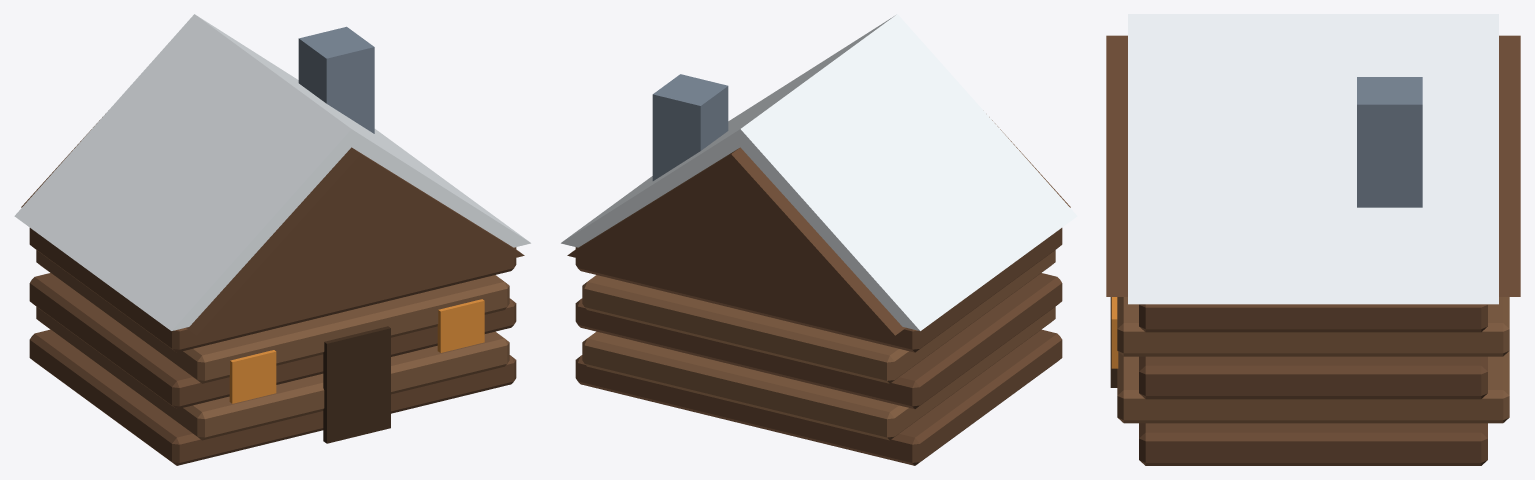
The model's file is env_r2_log_cabin.glb.
The picture shows the model from 3 angles, left to right: view 1: azimuth 30°, elevation 25°; view 2: azimuth 150°, elevation 25°; view 3: azimuth 270°, elevation 25°; orthographic projection. The views are drawn at different scales.
Visible parts, largest first — view 1: env_r2_log_cabin; view 2: env_r2_log_cabin; view 3: env_r2_log_cabin.
Boxes of the visible parts, box(x1,y1,x2,y2) form: env_r2_log_cabin: box(14, 14, 530, 465); env_r2_log_cabin: box(561, 14, 1077, 465); env_r2_log_cabin: box(1106, 14, 1520, 465).
Size of the model in its own units: 4.5 by 3.6 by 3.8.
1 material, 1 textured.
